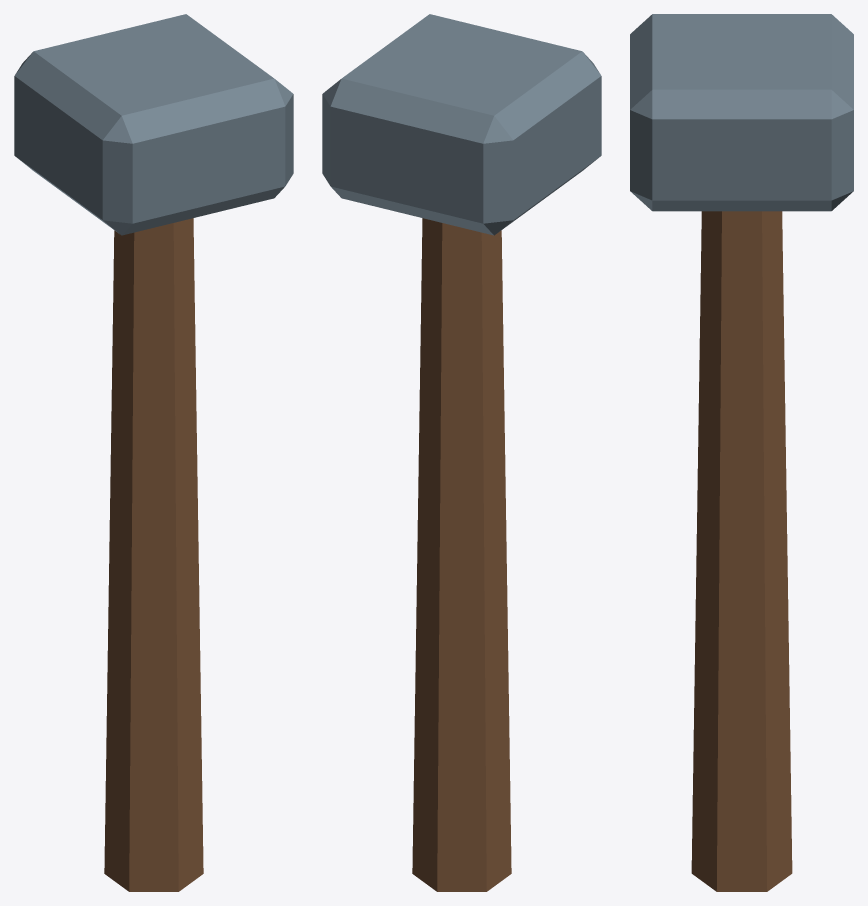
Rendered from enfeite_tocha.glb.
3 renders of one model, left to right at view 1: azimuth 30°, elevation 25°; view 2: azimuth 150°, elevation 25°; view 3: azimuth 270°, elevation 25°, orthographic.
Visible parts, largest first — view 1: bosque_enfeite_tocha; view 2: bosque_enfeite_tocha; view 3: bosque_enfeite_tocha.
Boxes of the visible parts, left/top/right/bottom form: bosque_enfeite_tocha: left=14, top=14, right=293, bottom=891; bosque_enfeite_tocha: left=322, top=14, right=601, bottom=891; bosque_enfeite_tocha: left=630, top=14, right=853, bottom=891.
Size of the model in its own units: 0.2 by 0.81 by 0.2.
